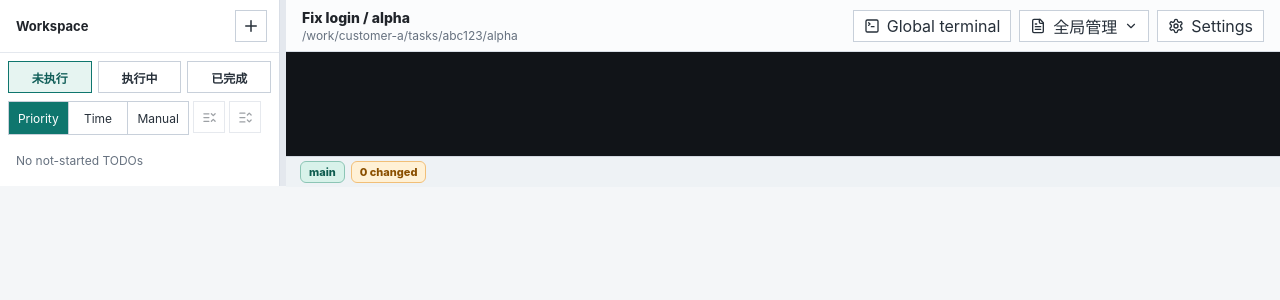
App project terminal tree › shows configured terminal launch profiles from loaded settings
Click the button with test id "todo-view-in-progress" at (140, 77), box x1=98 y1=61 x2=181 y2=93
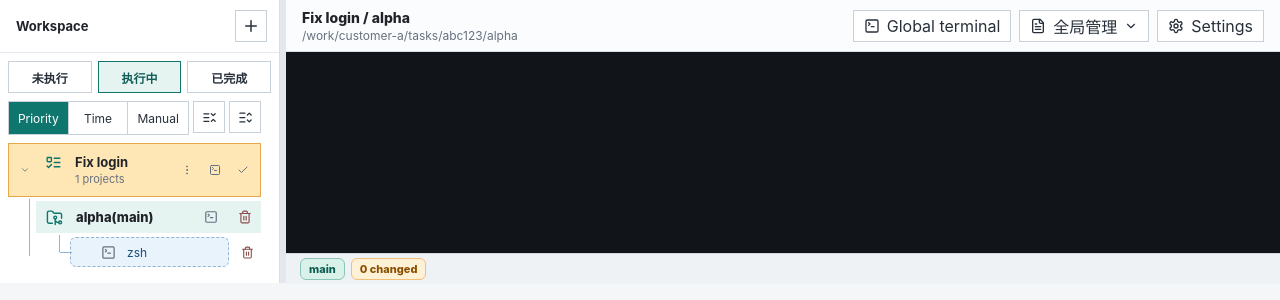
Click the button with test id "add-terminal-todo-project-a" at (211, 217), box x1=196 y1=202 x2=226 y2=232
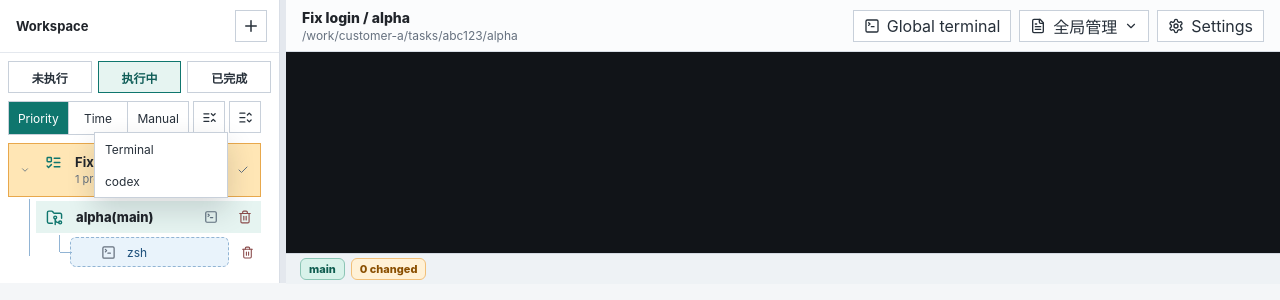
Expected: the element with test id "terminal-launch-menu-todo-project-a" is shown, x1=94 y1=132 x2=228 y2=198
Expected: the element with test id "terminal-launch-menu-todo-project-a" shows "Terminal", x1=95 y1=133 x2=227 y2=165
Expected: the element with test id "terminal-launch-menu-todo-project-a" shows "codex", x1=95 y1=165 x2=227 y2=197
